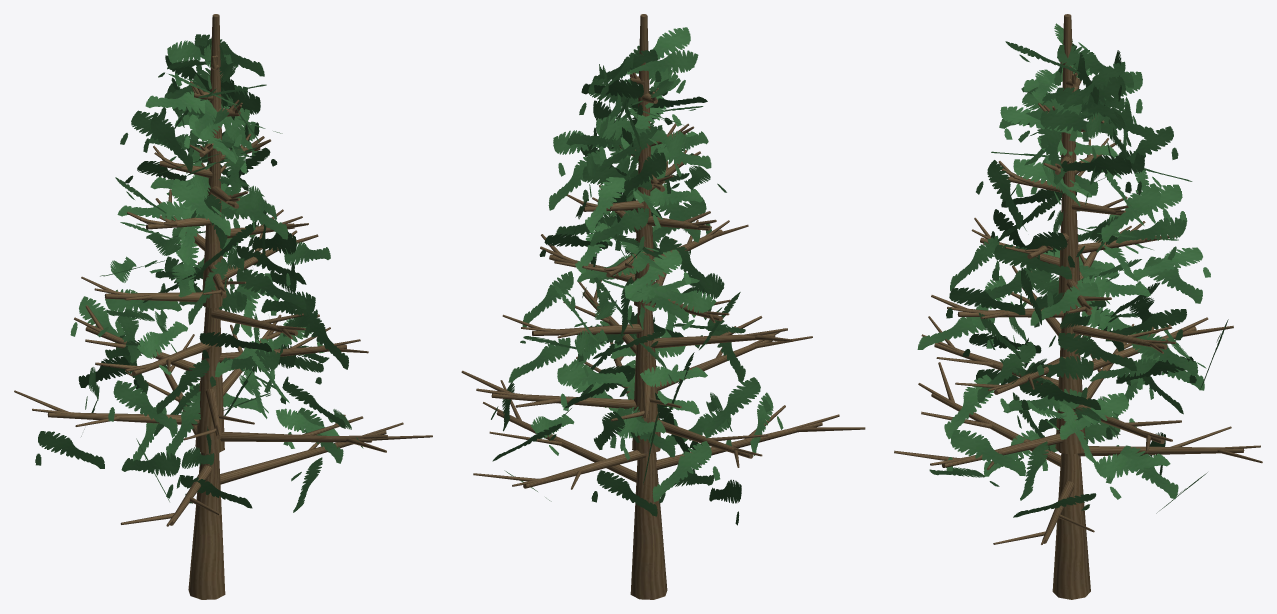
3 views of the same model, side by side, from view 1: azimuth 30°, elevation 25°; view 2: azimuth 150°, elevation 25°; view 3: azimuth 270°, elevation 25° (orthographic).
Visible parts, largest first — view 1: pine-needle, pine-bark; view 2: pine-needle, pine-bark; view 3: pine-needle, pine-bark.
Boxes of the visible parts, box(x1,y1,x2,y2) form: pine-needle: box(35, 34, 363, 512); pine-bark: box(14, 14, 432, 599); pine-needle: box(491, 27, 783, 525); pine-bark: box(461, 14, 865, 599); pine-needle: box(917, 23, 1228, 517); pine-bark: box(894, 14, 1262, 599).
Bounding box in the file's own units: 6.16 × 10.01 × 5.77.
2 materials, 2 textured.
